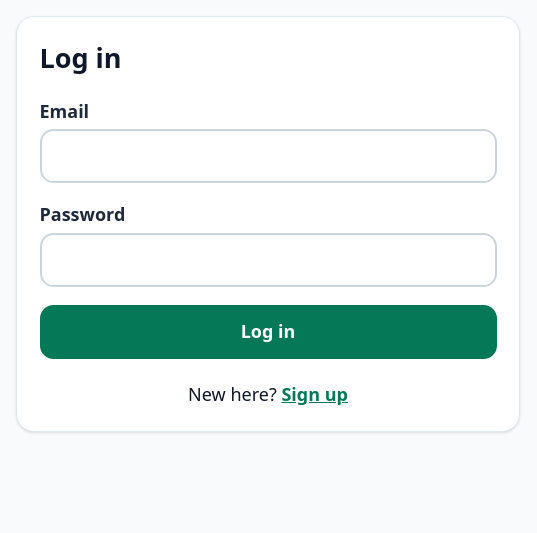
it: LoginPage › shows the server error for bad credentials
This screenshot has width=537, height=533.
Type "a@b.com" into the field labelled "Email" at (268, 156), box top-left (40, 130), bottom-right (496, 184)
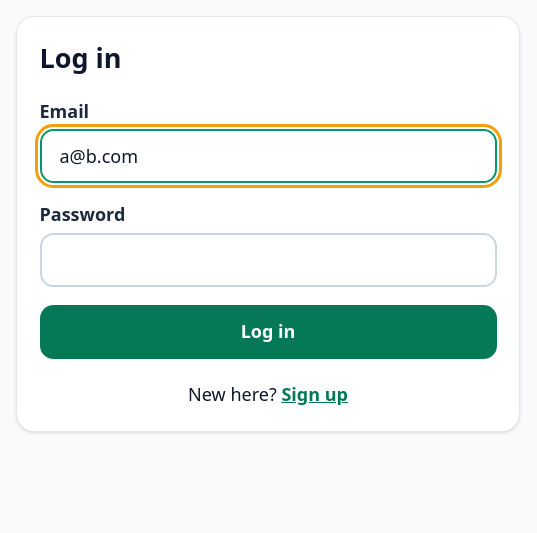
Type "wrong-pass" into the password field labelled "Password" at (268, 260), box top-left (40, 233), bottom-right (496, 287)
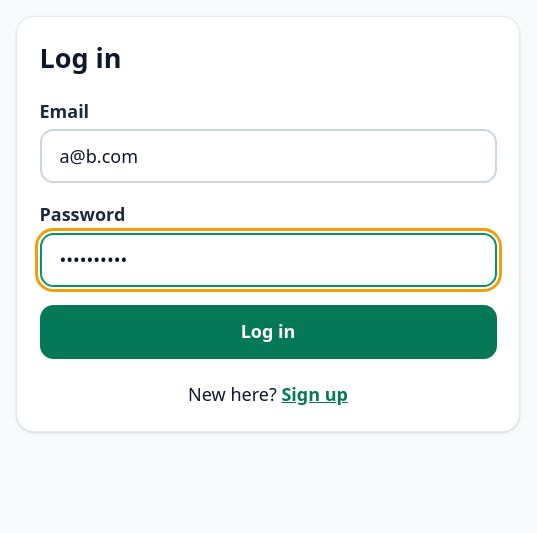
Click the button "Log in" at (268, 332), box top-left (40, 305), bottom-right (496, 359)
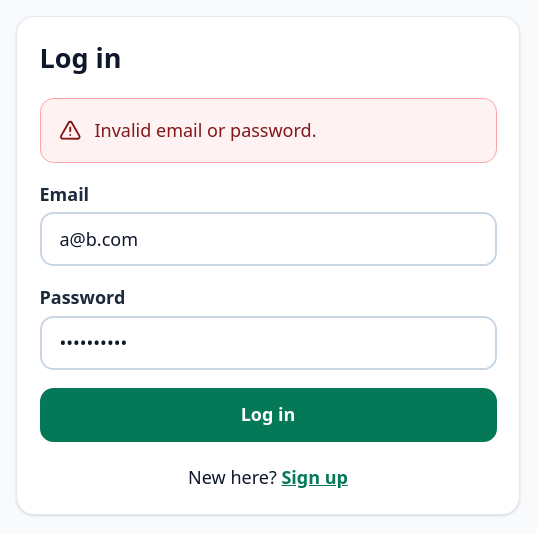
Expected: the message reads "Invalid email or password.", top-left (94, 118), bottom-right (316, 142)
